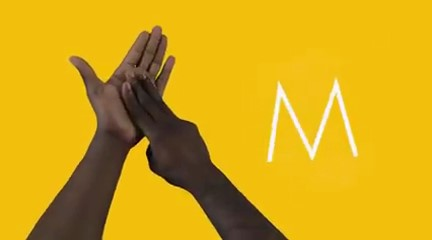M: (61, 21, 212, 189)
